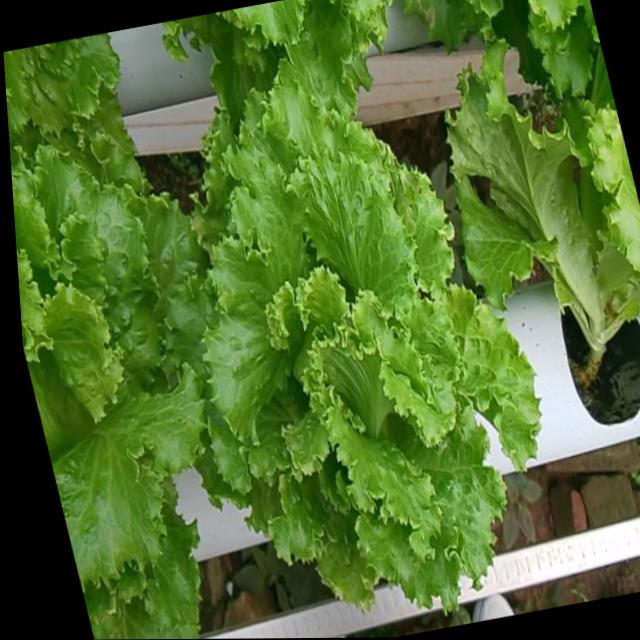Mature: (194, 81, 544, 605), (12, 147, 212, 595)
